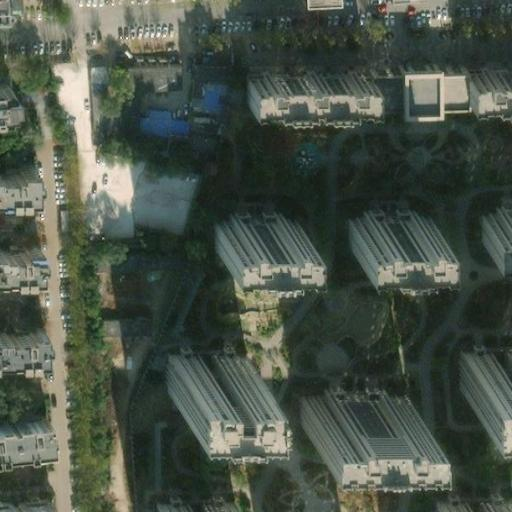building: (237, 73, 512, 107), (237, 73, 360, 104), (291, 381, 397, 414), (159, 349, 237, 389), (447, 342, 512, 382), (341, 211, 422, 242), (207, 212, 287, 242), (458, 73, 512, 103), (127, 99, 177, 129), (0, 414, 44, 448), (424, 494, 502, 512), (472, 207, 512, 239), (0, 321, 38, 352), (191, 79, 228, 110), (148, 498, 227, 512), (0, 235, 34, 266), (0, 494, 45, 512), (0, 86, 20, 122), (0, 154, 22, 184)
